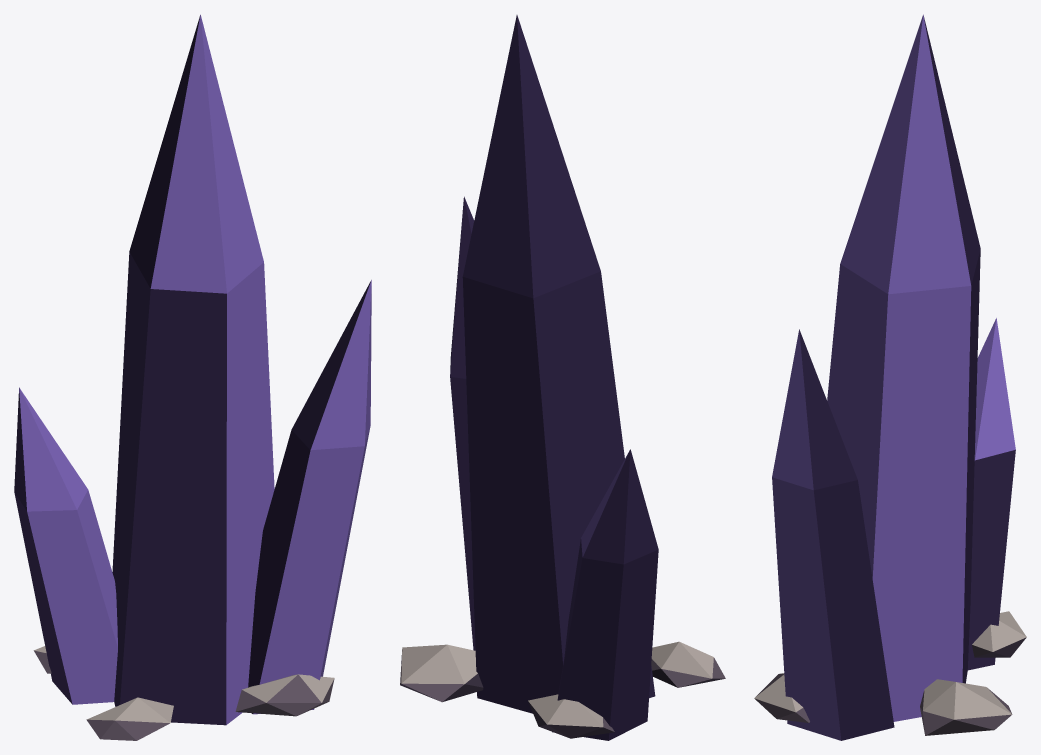
Rendered from ObsidianSpire.fbx.
The picture shows the model from 3 angles, left to right: view 1: azimuth 30°, elevation 25°; view 2: azimuth 150°, elevation 25°; view 3: azimuth 270°, elevation 25°; orthographic projection. The views are drawn at different scales.
Parts seen in each view (by area): view 1: ObsidianSpire; view 2: ObsidianSpire; view 3: ObsidianSpire.
Boxes of the visible parts, <box> form: ObsidianSpire: <box>14,14,371,740</box>; ObsidianSpire: <box>400,15,725,740</box>; ObsidianSpire: <box>754,14,1026,740</box>.
Size of the model in its own units: 1.5 by 3.45 by 1.24.
1 material, 1 textured.
